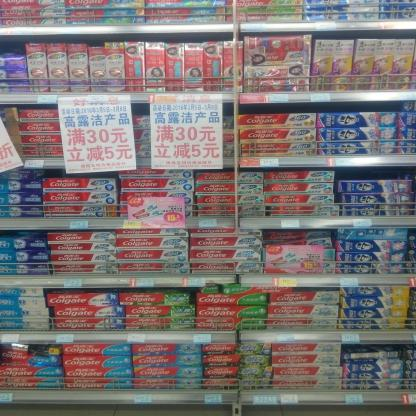Void: (244, 104, 399, 112), (340, 168, 411, 180)
